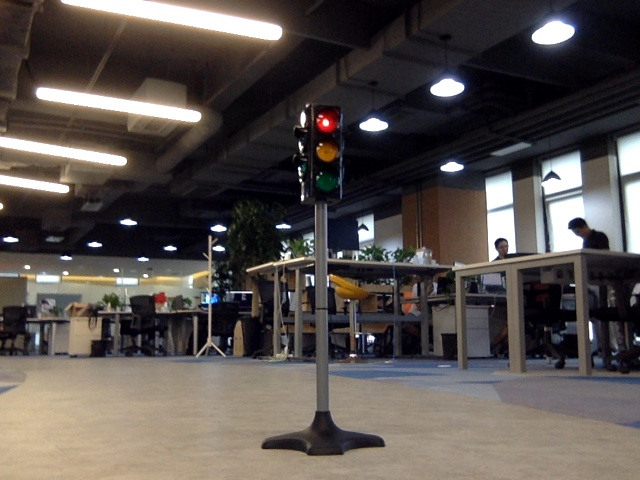red: (308, 107, 341, 198)
